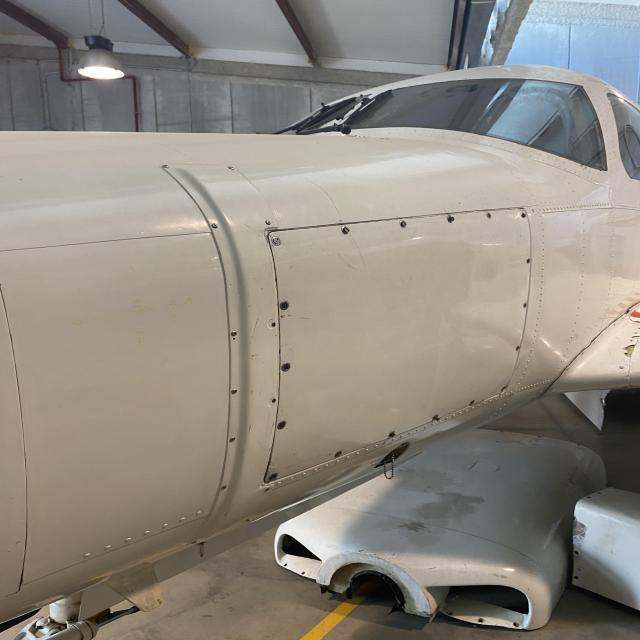Crack: (530, 349, 582, 397), (611, 291, 640, 316), (622, 344, 637, 358), (584, 340, 594, 350), (629, 335, 640, 340), (626, 374, 632, 378)
